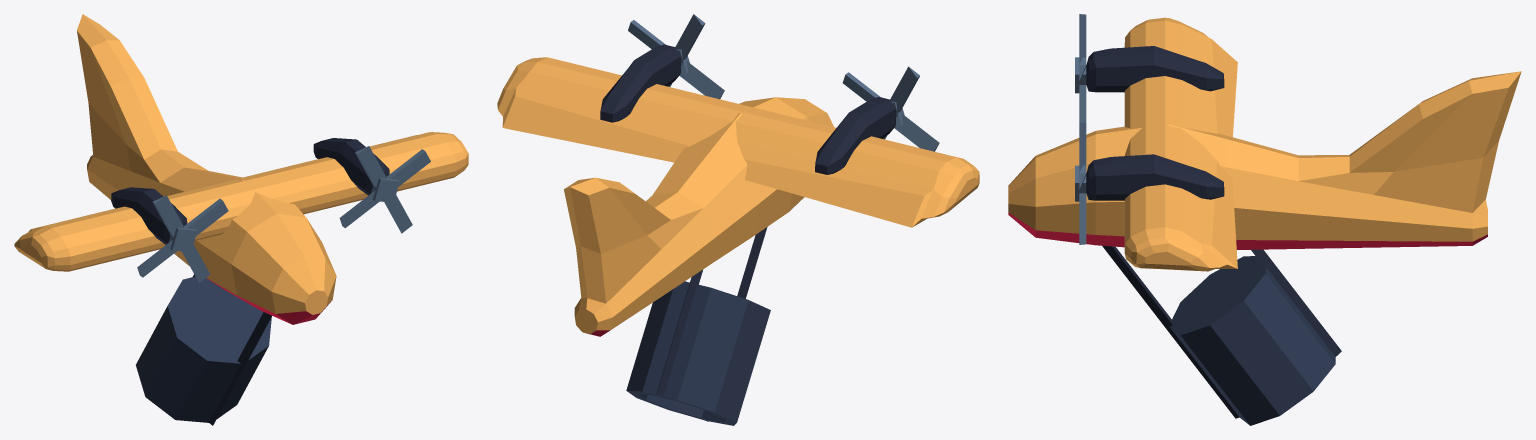
The picture shows the model from 3 angles, left to right: view 1: azimuth 30°, elevation 25°; view 2: azimuth 150°, elevation 25°; view 3: azimuth 270°, elevation 25°; orthographic projection. The views are drawn at different scales.
Visible parts, largest first — view 1: plane.hull, Bucket, plane.rotor.l, plane.rotor.r; view 2: plane.hull, Bucket, plane.rotor.l, plane.rotor.r; view 3: plane.hull, Bucket, plane.rotor.l, plane.rotor.r.
Part boxes in pixels (x1,y1,x2,y2): plane.hull: (14, 14, 468, 425); Bucket: (136, 276, 271, 422); plane.rotor.l: (339, 146, 430, 233); plane.rotor.r: (137, 195, 228, 282); plane.hull: (497, 44, 979, 421); Bucket: (626, 281, 770, 425); plane.rotor.l: (628, 14, 724, 99); plane.rotor.r: (842, 66, 939, 151); plane.hull: (1008, 17, 1521, 418); Bucket: (1170, 256, 1335, 425); plane.rotor.l: (1075, 122, 1086, 244); plane.rotor.r: (1075, 14, 1086, 122).
Bounding box in the file's own units: 937 × 666 × 891.
